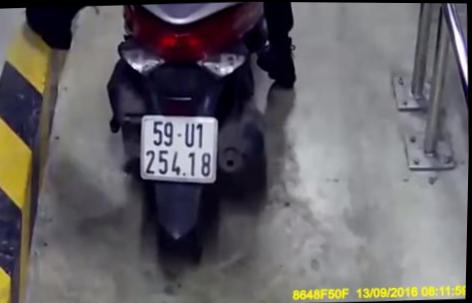LP: (138, 112, 220, 186)
